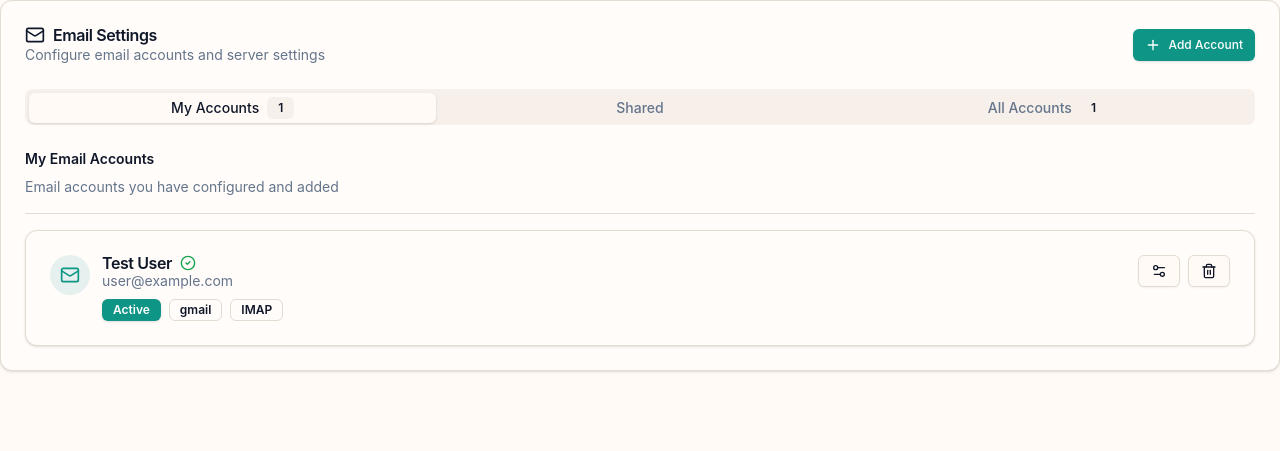
Scenario: EmailSettingsSection › shared tab › should switch to Shared tab when clicked
Click the tab "Shared" at (640, 108), box [436,94,844,122]
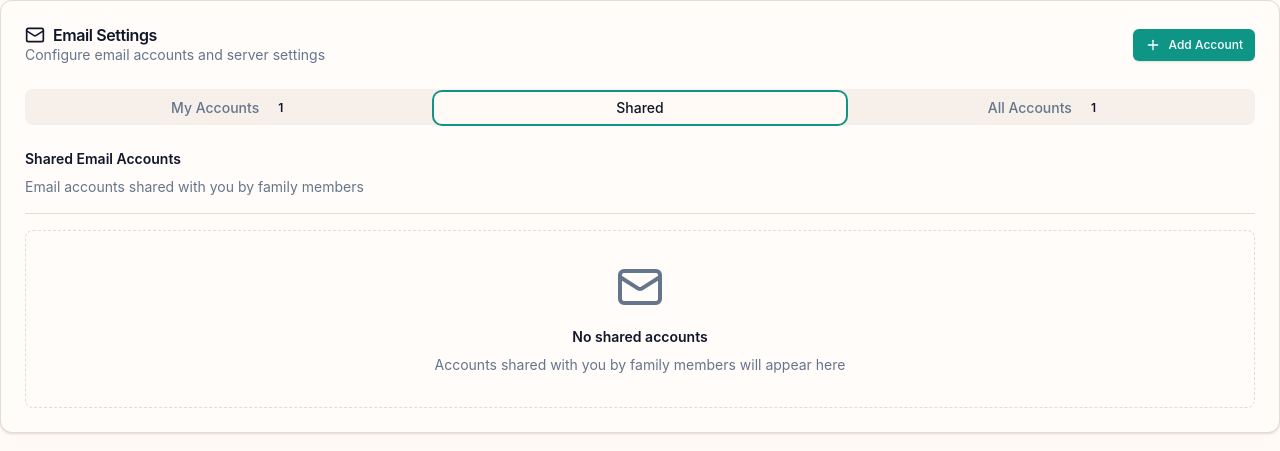
Result: the heading "Shared Email Accounts" is shown at [25,150,181,167]
